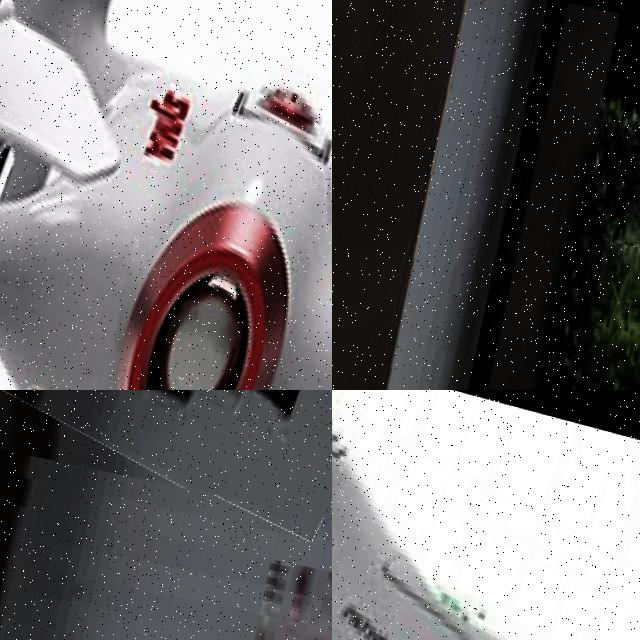0: (0, 390, 332, 525)
drone: (0, 0, 332, 390), (332, 390, 640, 640)
